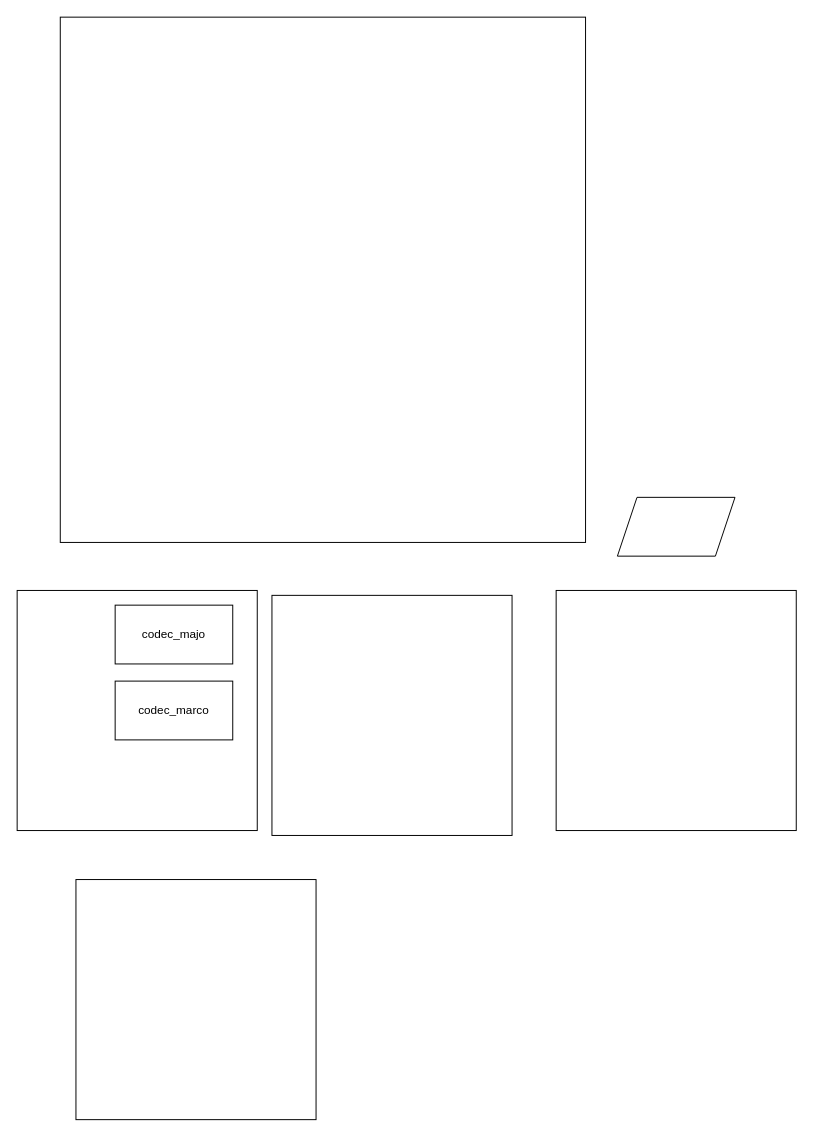
This 813x1137 diagram has some shape labels left out. Here are the shapes that lost their labels. From the top down, the centre of each, then its label:
At point 322,279: "VServer (vm2)".
At point 675,526: "codeccli".
